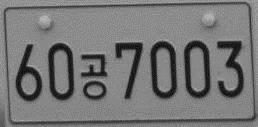0: (149, 40, 178, 98), (47, 40, 75, 100), (183, 40, 211, 97)
3: (214, 39, 244, 98)
6: (13, 42, 43, 101)
7: (113, 39, 145, 101)
공: (78, 52, 108, 101)
